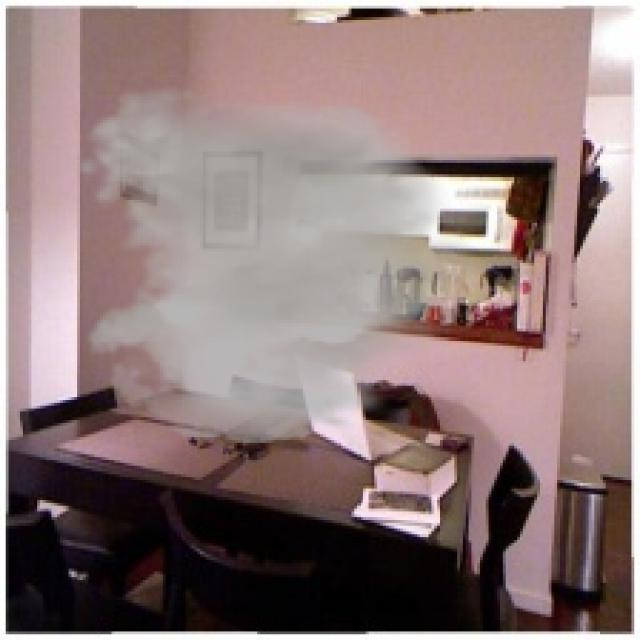Smoke: (74, 86, 500, 443)
